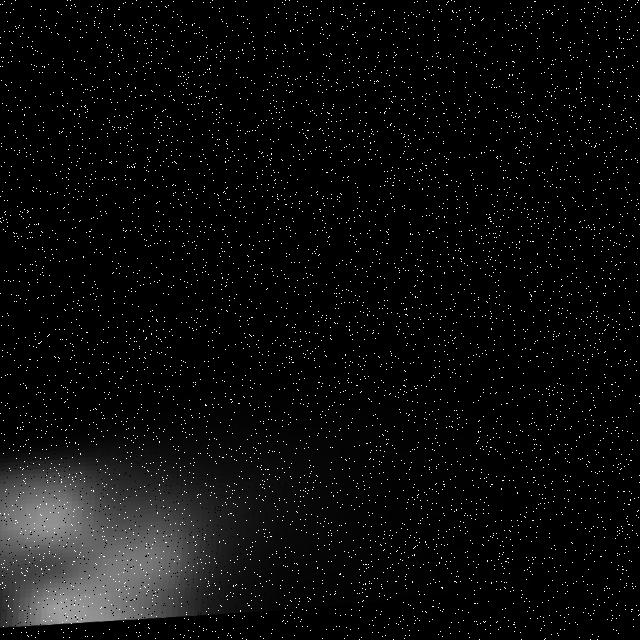person: (1, 406, 338, 640)
